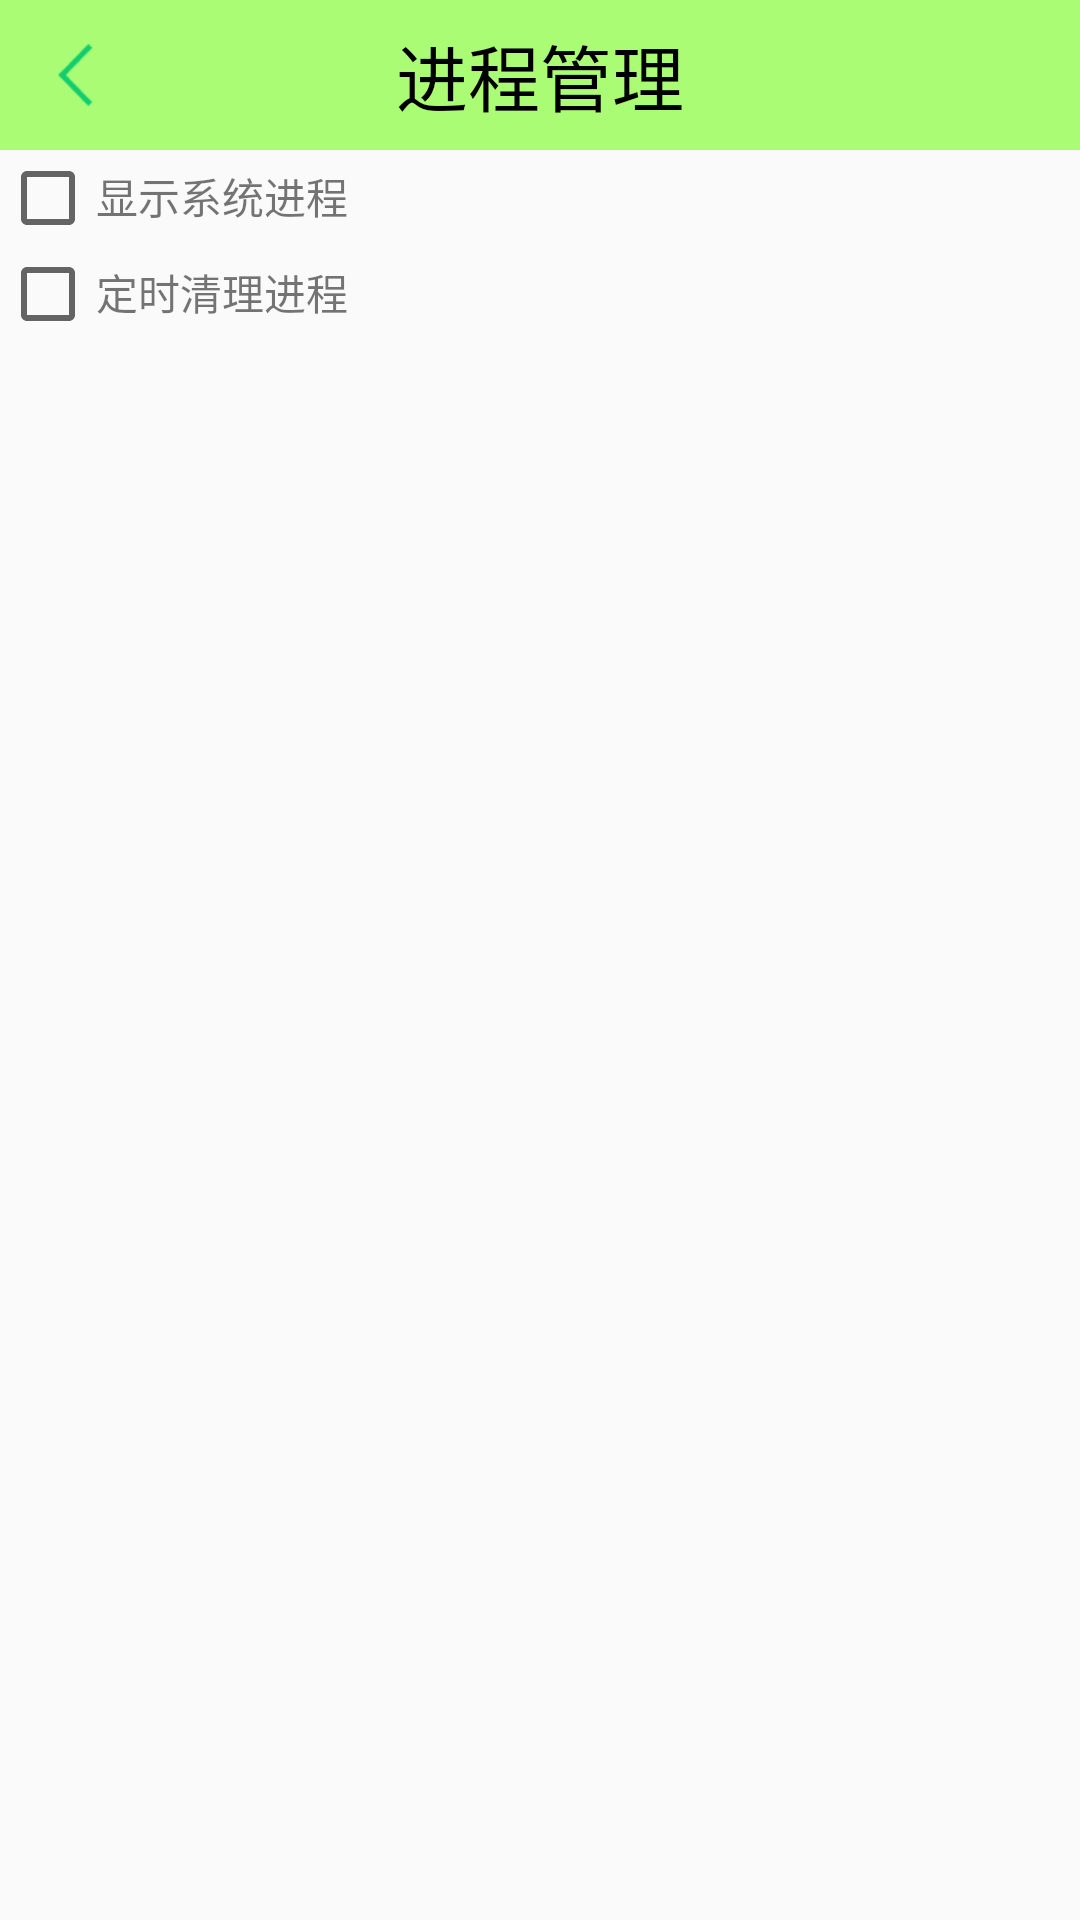

Where icons sit on this 1080*1920 app screen, as (x1, y1, x2, y2):
back: (58, 44, 92, 106)
